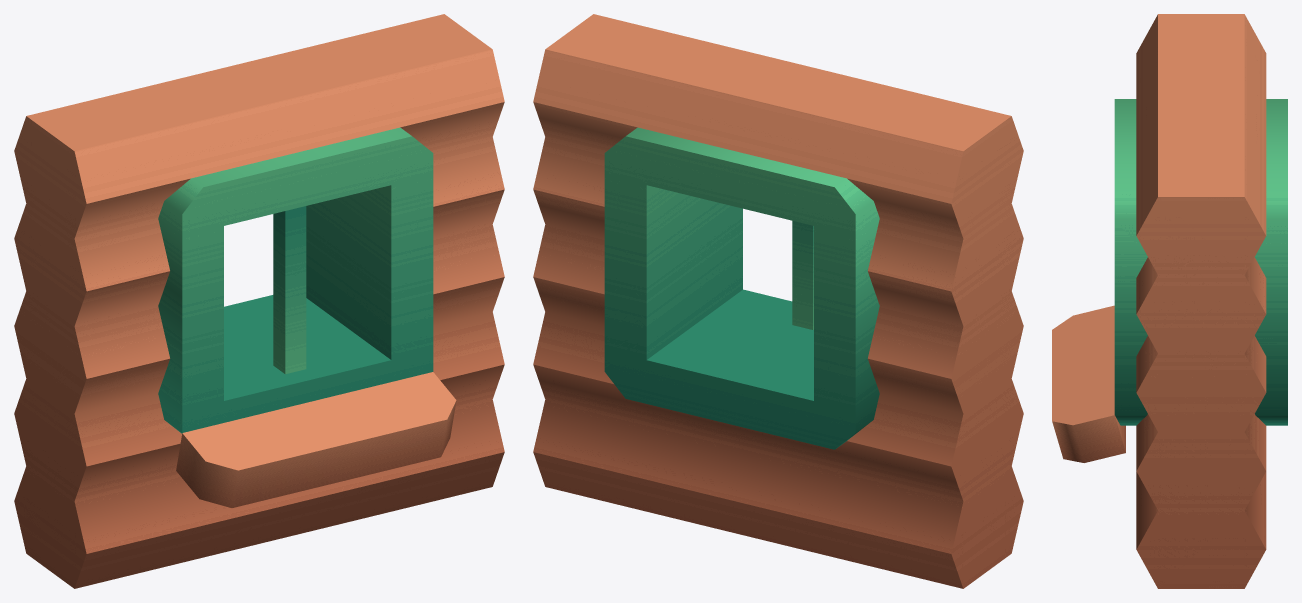
File: cabin_window_b.glb
3 renders of one model, left to right at view 1: azimuth 30°, elevation 25°; view 2: azimuth 150°, elevation 25°; view 3: azimuth 270°, elevation 25°, orthographic. The views are drawn at different scales.
Parts seen in each view (by area): view 1: cabin-window-b; view 2: cabin-window-b; view 3: cabin-window-b.
Boxes of the visible parts, x1,y1,x2,y2 form: cabin-window-b: (14,14,504,588); cabin-window-b: (533,14,1023,588); cabin-window-b: (1052,14,1287,588).
Size of the model in its own units: 1 by 1 by 0.5449.
Materials: 1 (1 with a texture image).
